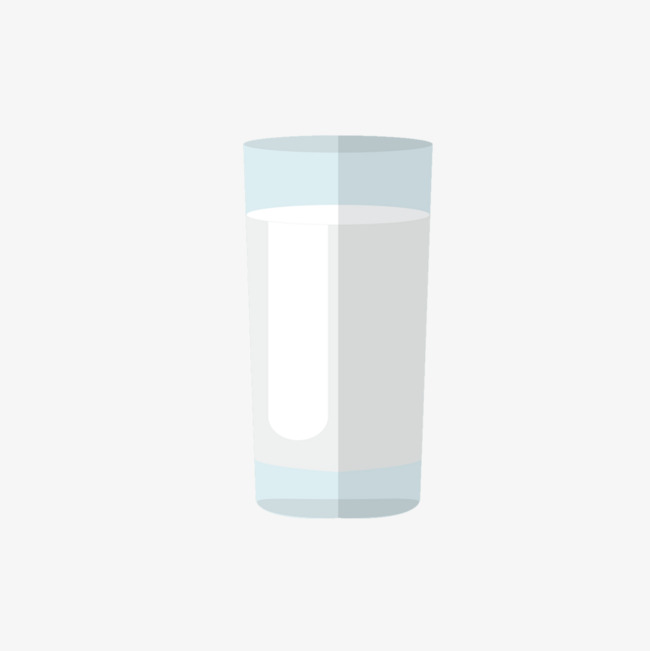glass of milk: (252, 157, 420, 507)
